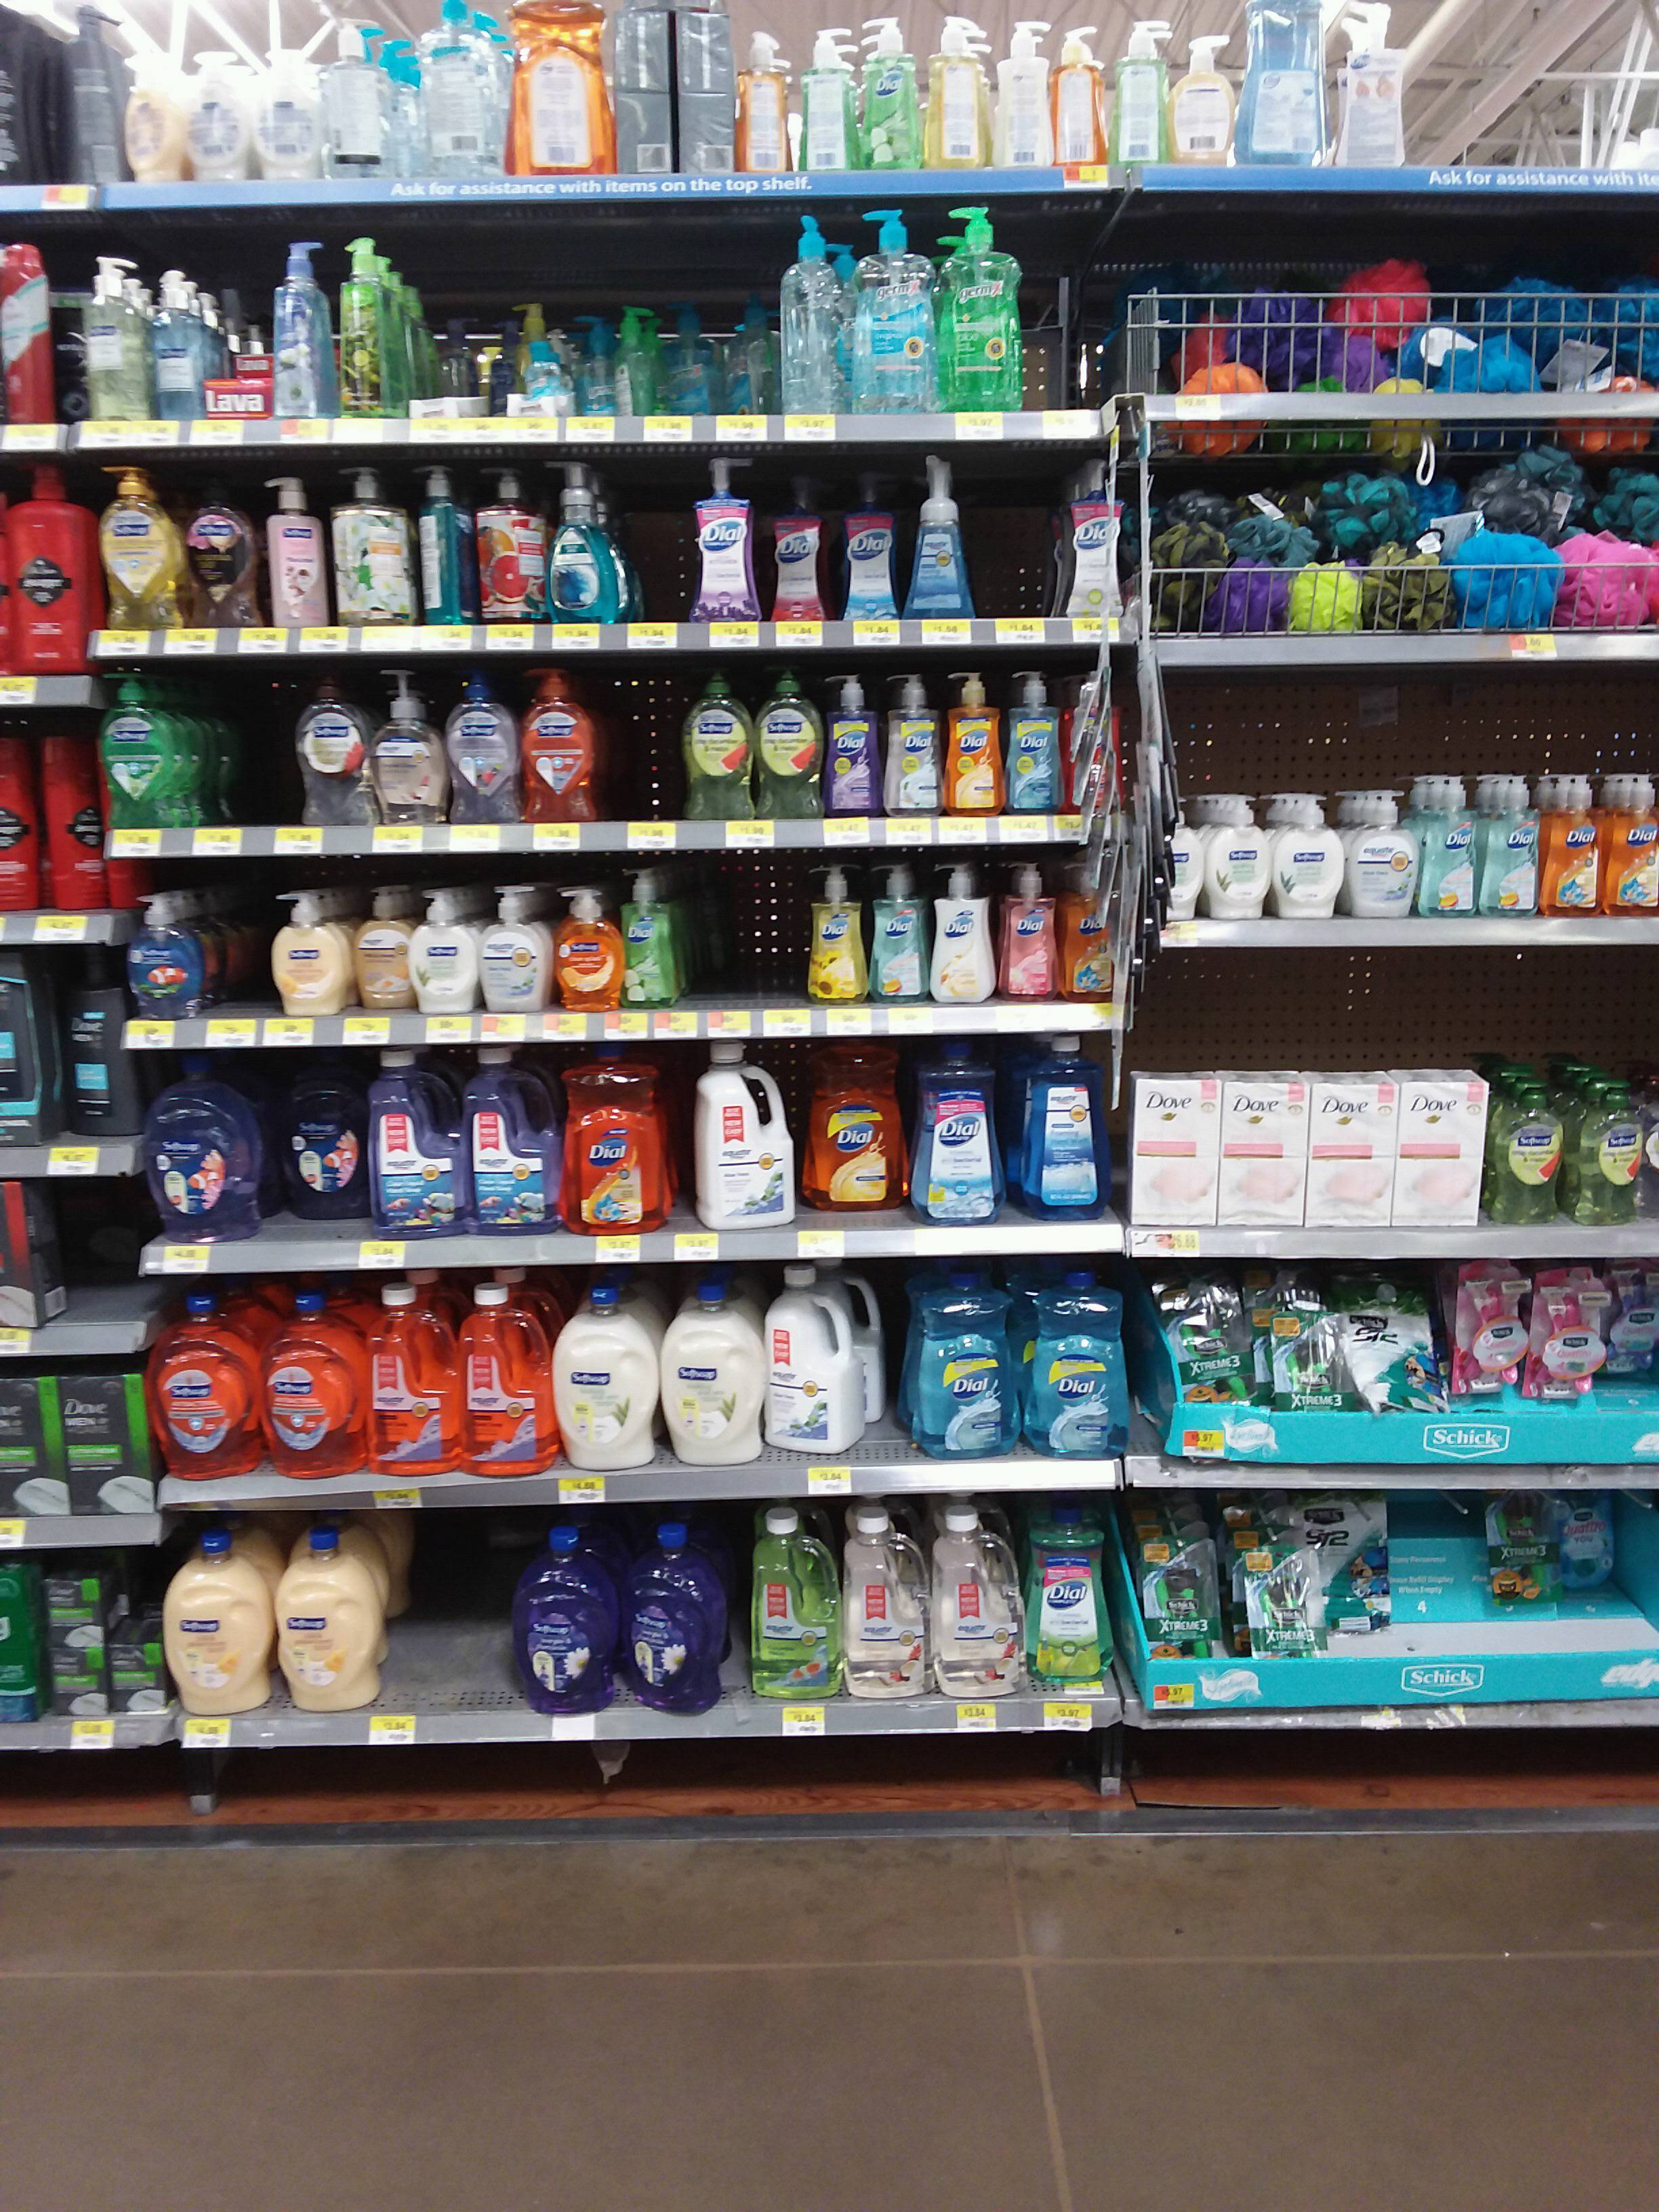Misplacement: (256, 1052, 373, 1240)
Out-of-stock: (681, 850, 812, 1008)
